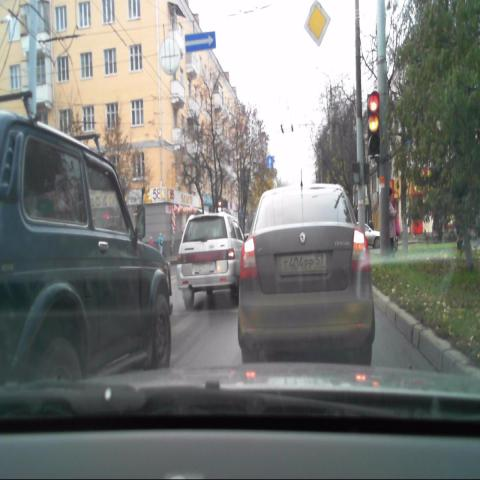5_7_1: (184, 31, 213, 53)
